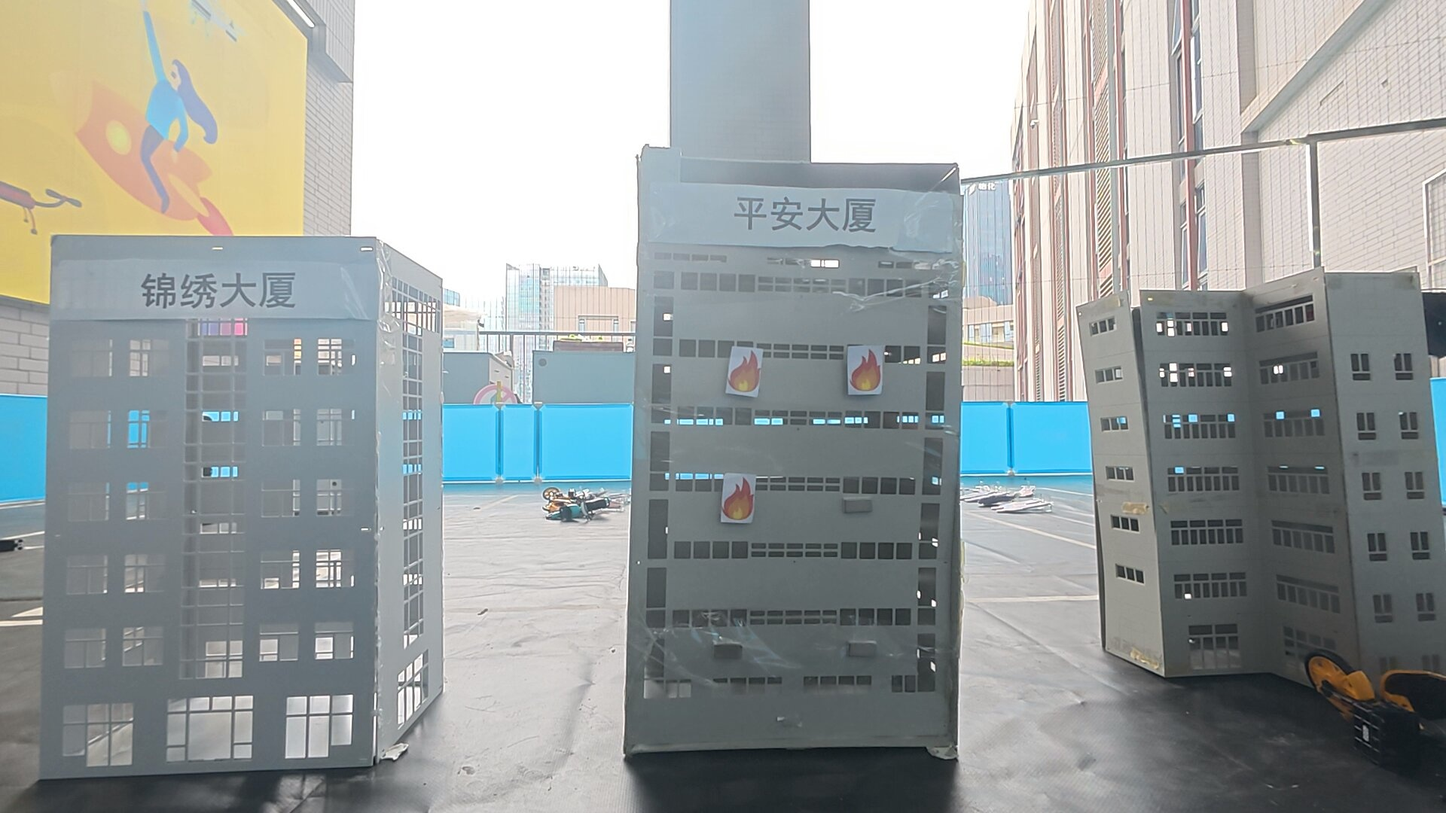fire: (846, 345, 887, 396), (721, 474, 760, 525), (727, 344, 764, 395)
